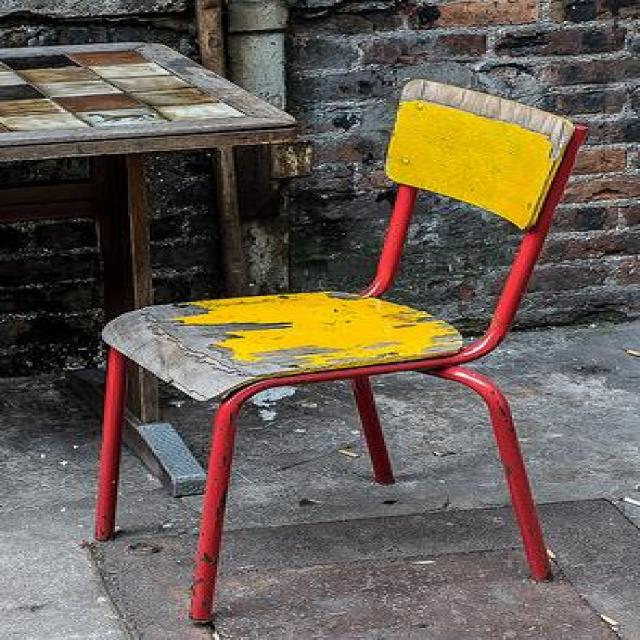chair: (93, 76, 588, 624)
